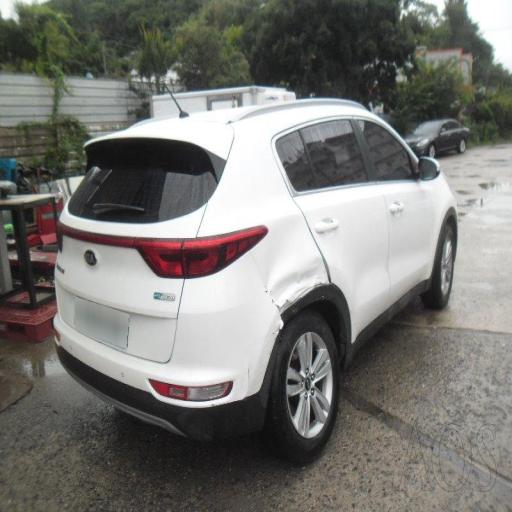dent: (241, 236, 383, 356)
